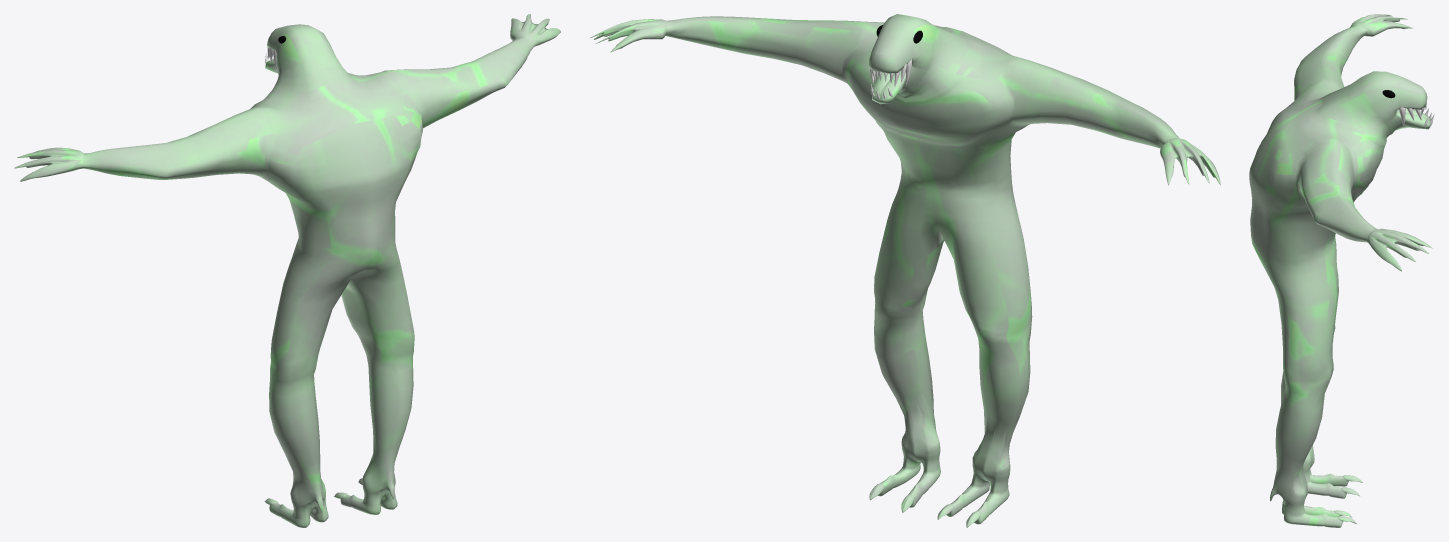
File: Berserkeraranar.0003.obj
The picture shows the model from 3 angles, left to right: view 1: azimuth 30°, elevation 25°; view 2: azimuth 150°, elevation 25°; view 3: azimuth 270°, elevation 25°; orthographic projection. The views are drawn at different scales.
Visible parts, largest first — view 1: polySurface27; view 2: polySurface27; view 3: polySurface27.
Boxes of the visible parts, left/top/right/bottom form: polySurface27: left=14, top=14, right=560, bottom=527; polySurface27: left=590, top=14, right=1220, bottom=527; polySurface27: left=1249, top=14, right=1434, bottom=527.
Bounding box in the file's own units: 30.13 × 24.1 × 9.26.
1 material, 1 textured.
